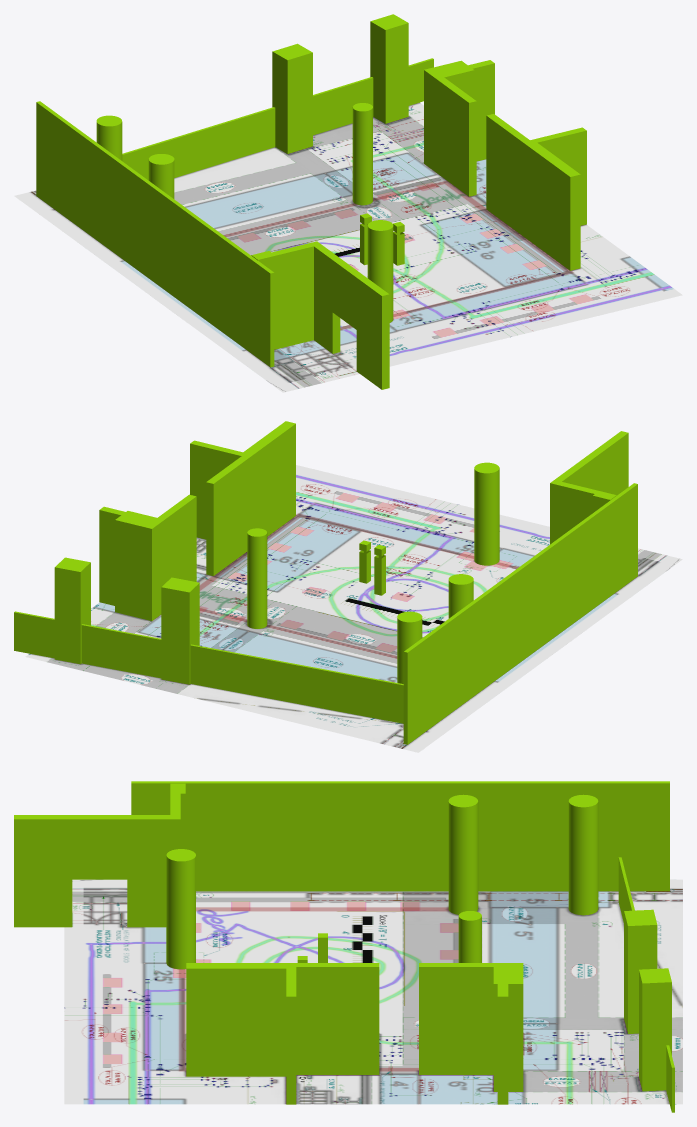
Rendered from floorPlan_export.fbx.
3 views of the same model, one above another, from view 1: azimuth 30°, elevation 25°; view 2: azimuth 150°, elevation 25°; view 3: azimuth 270°, elevation 25° (orthographic). The views are drawn at different scales.
Visible parts, largest first — view 1: floorPlanRef, pCube8, pCube1, pCube10, pCube5, pCube2, pCube6, pCube7, pCylinder3, pCylinder1, pCylinder4, pCylinder2; view 2: floorPlanRef, pCube8, pCube5, pCube1, pCube2, pCube10, pCube6, pCube7, pCylinder1, pCylinder3, pCylinder4, pCylinder2 (+1 smaller); view 3: floorPlanRef, pCube8, pCube1, pCube10, pCube2, pCube7, pCylinder4, pCylinder2, pCylinder1, pCube6, pCylinder3, pCube5 (+1 smaller).
Part boxes in pixels (bbox=[...]): floorPlanRef: bbox=[14, 102, 682, 392]; pCube8: bbox=[36, 101, 274, 367]; pCube1: bbox=[486, 114, 586, 270]; pCube10: bbox=[271, 241, 389, 389]; pCube5: bbox=[122, 58, 433, 180]; pCube2: bbox=[424, 60, 494, 196]; pCube6: bbox=[272, 43, 312, 153]; pCube7: bbox=[370, 14, 408, 123]; pCylinder3: bbox=[352, 103, 372, 205]; pCylinder1: bbox=[367, 220, 393, 322]; pCylinder4: bbox=[96, 115, 122, 160]; pCylinder2: bbox=[148, 154, 174, 198]; floorPlanRef: bbox=[25, 465, 682, 752]; pCube8: bbox=[403, 483, 637, 744]; pCube5: bbox=[14, 611, 403, 723]; pCube1: bbox=[190, 421, 295, 575]; pCube2: bbox=[99, 494, 196, 620]; pCube10: bbox=[550, 431, 628, 544]; pCube6: bbox=[161, 577, 199, 684]; pCube7: bbox=[54, 557, 90, 664]; pCylinder1: bbox=[474, 462, 499, 565]; pCylinder3: bbox=[247, 528, 267, 628]; pCylinder4: bbox=[397, 611, 422, 683]; pCylinder2: bbox=[448, 574, 473, 618]; floorPlanRef: bbox=[64, 879, 682, 1104]; pCube8: bbox=[131, 781, 669, 891]; pCube1: bbox=[186, 963, 379, 1104]; pCube10: bbox=[14, 793, 180, 927]; pCube2: bbox=[419, 963, 523, 1104]; pCube7: bbox=[639, 968, 671, 1091]; pCylinder4: bbox=[568, 794, 598, 915]; pCylinder2: bbox=[448, 794, 478, 914]; pCylinder1: bbox=[166, 849, 195, 969]; pCube6: bbox=[624, 909, 657, 1033]; pCylinder3: bbox=[458, 911, 481, 962]; pCube5: bbox=[618, 857, 674, 1112].
Bounding box in the file's own units: 16.93 × 3.66 × 20.55.
